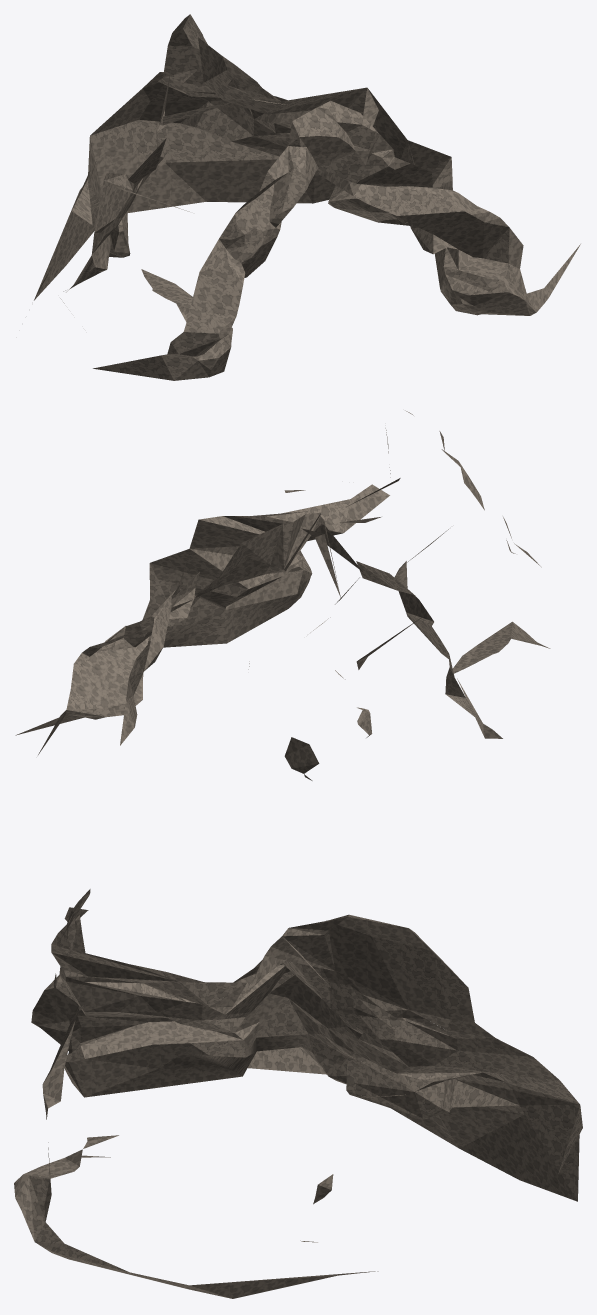
The model's file is synty-rock-caveinterior-02.gltf.
3 renders of one model, top to bottom at view 1: azimuth 30°, elevation 25°; view 2: azimuth 150°, elevation 25°; view 3: azimuth 270°, elevation 25°, orthographic. The views are drawn at different scales.
Parts seen in each view (by area): view 1: SM_Rock_CaveInterior_02; view 2: SM_Rock_CaveInterior_02; view 3: SM_Rock_CaveInterior_02.
Boxes of the visible parts, bbox=[...] form: SM_Rock_CaveInterior_02: bbox=[34, 14, 580, 380]; SM_Rock_CaveInterior_02: bbox=[15, 410, 550, 780]; SM_Rock_CaveInterior_02: bbox=[14, 889, 582, 1298].
Bounding box in the file's own units: 13.61 × 7.24 × 11.77.
Materials: 1 (1 with a texture image).
